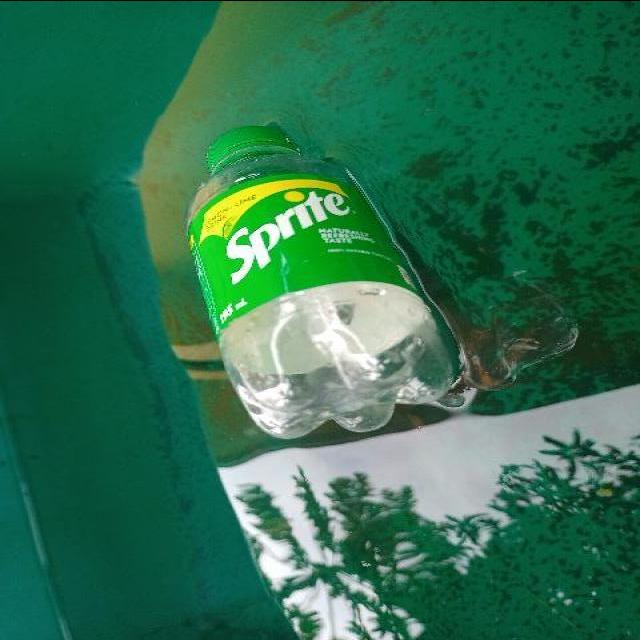Bottle: (175, 115, 462, 449)
